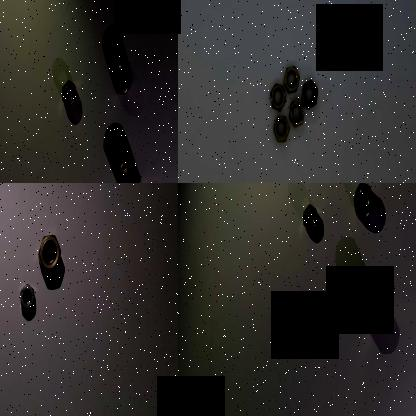NUTS: (34, 227, 60, 275), (354, 282, 382, 326), (110, 55, 132, 101), (352, 183, 375, 220), (15, 280, 36, 319), (114, 157, 141, 183), (300, 77, 318, 113), (281, 63, 299, 98), (287, 95, 305, 130), (272, 110, 290, 142), (300, 200, 318, 232), (268, 83, 286, 114), (60, 77, 76, 109)
